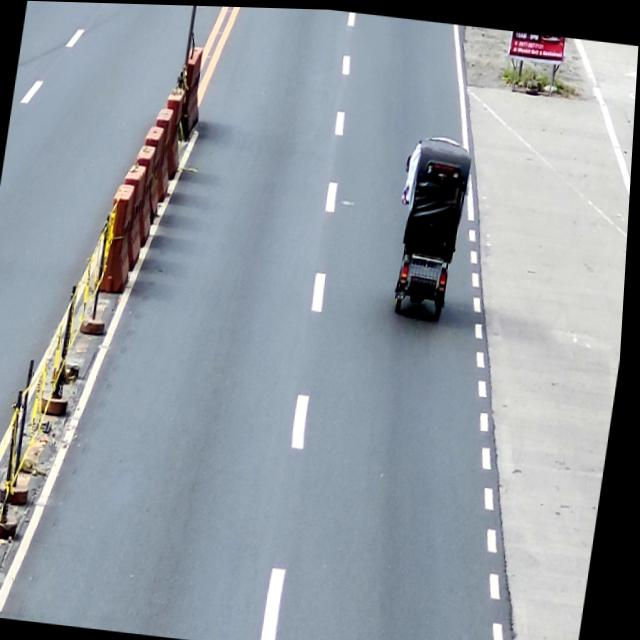E-bike: (386, 129, 476, 319)
